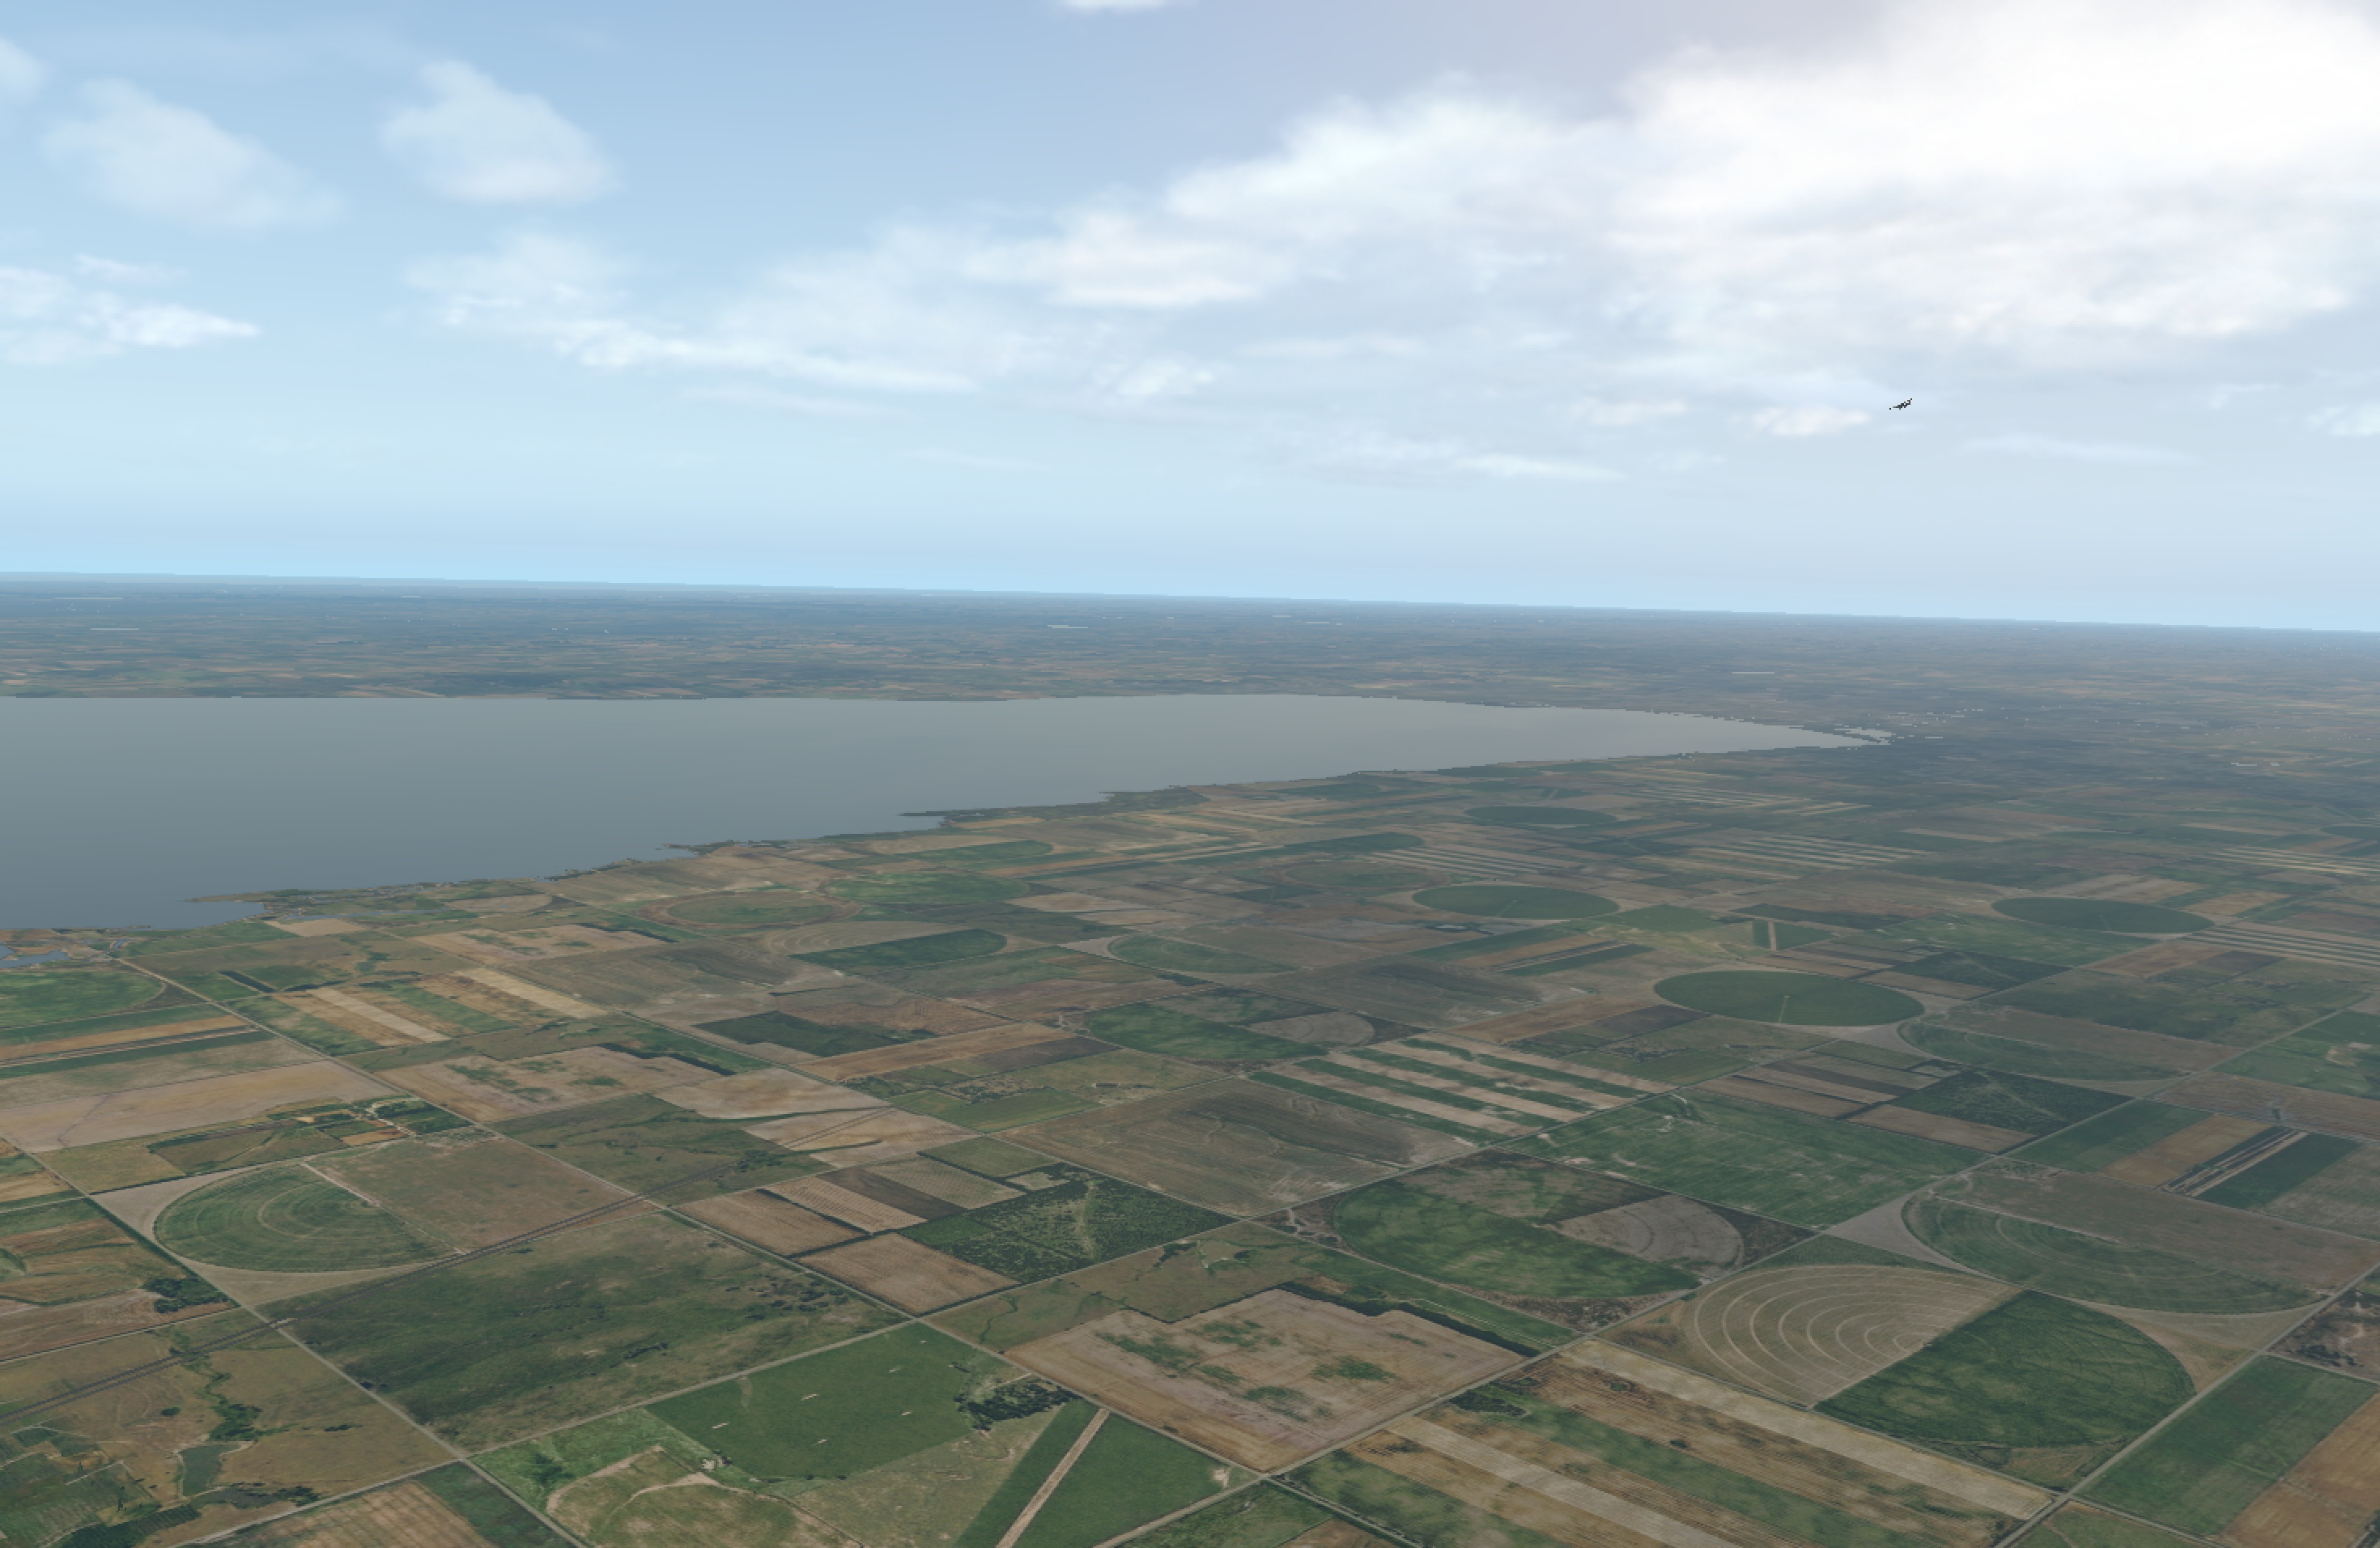aircraft: (1891, 403, 1910, 410)
